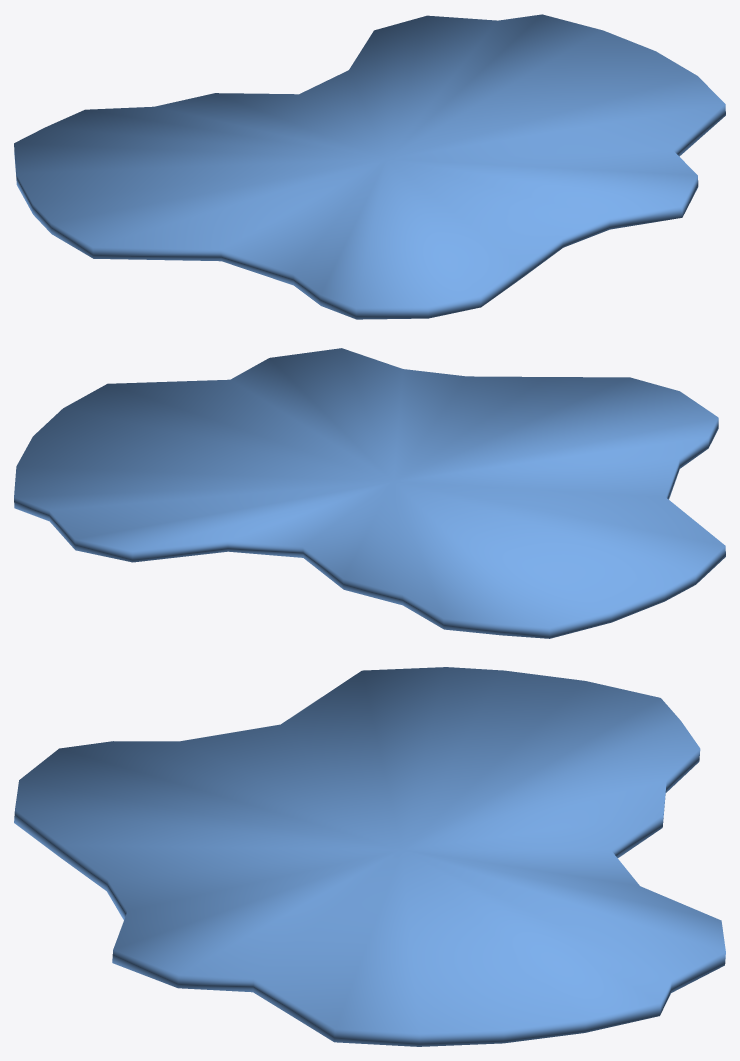
File: puddle3.fbx
3 renders of one model, top to bottom at view 1: azimuth 30°, elevation 25°; view 2: azimuth 150°, elevation 25°; view 3: azimuth 270°, elevation 25°, orthographic. The views are drawn at different scales.
Visible parts, largest first — view 1: Circle; view 2: Circle; view 3: Circle.
Boxes of the visible parts, box(x1,y1,x2,y2) form: Circle: box(14, 14, 725, 319); Circle: box(14, 348, 725, 638); Circle: box(14, 667, 725, 1046).
Size of the model in its own units: 565 by 9.49 by 464.
